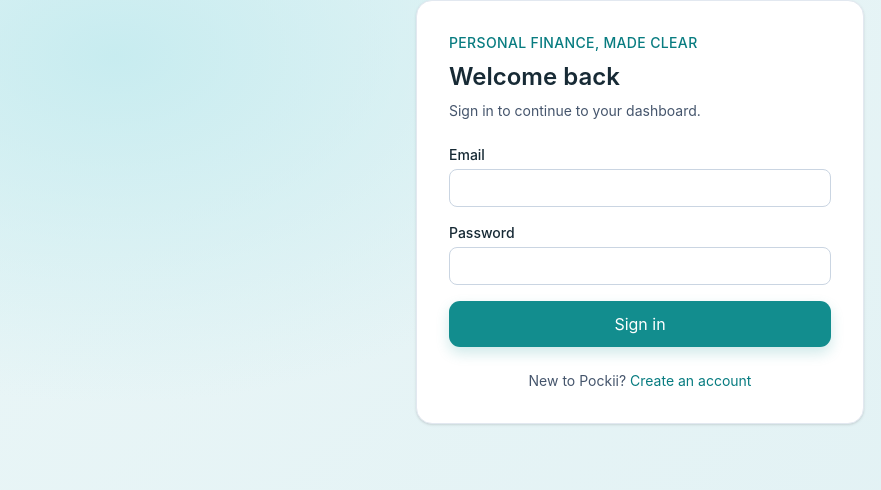
Scenario: authentication form › shows field errors and does not submit invalid credentials
This screenshot has width=881, height=490.
Click the button "Sign in". click: click(640, 324)
box: [449, 301, 831, 347]
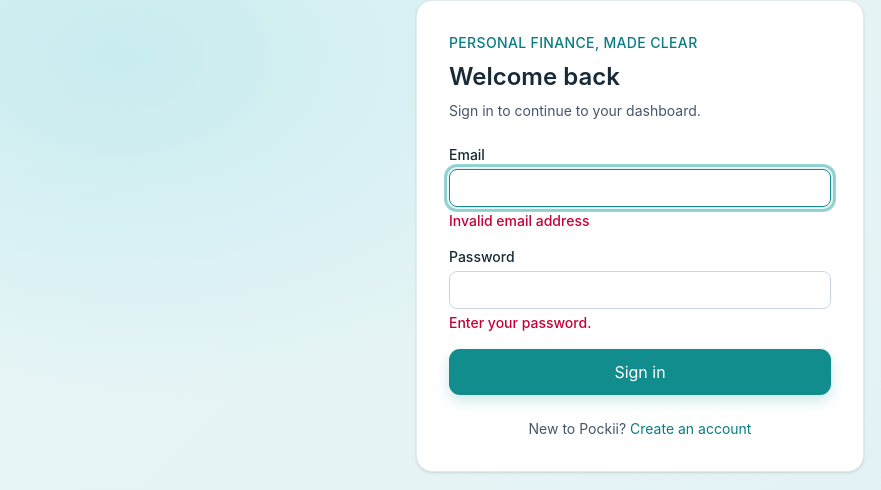
Check: the text "Invalid email address" is shown, box [449, 212, 590, 229]
Check: the text "Enter your password." is shown, box [449, 314, 591, 331]
